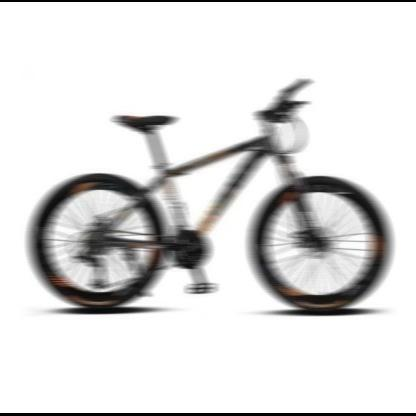Bicycle: (9, 60, 403, 328)
